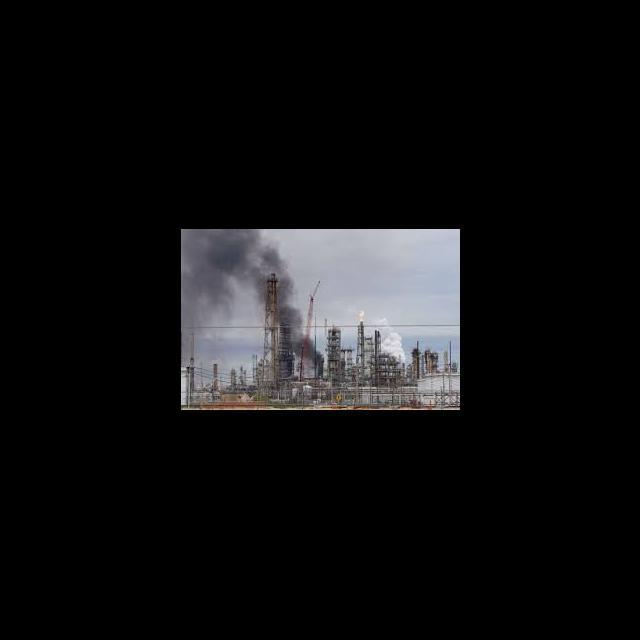Fire: (354, 310, 366, 322)
Smoke: (180, 233, 260, 327), (292, 321, 324, 376), (379, 319, 410, 357), (280, 274, 303, 320)
